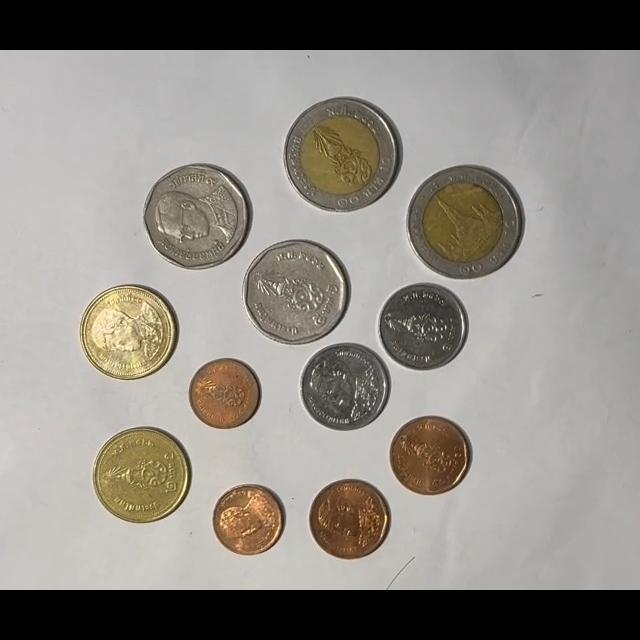1-baht: (299, 343, 391, 433), (378, 283, 468, 371)
10-baht: (284, 97, 402, 214), (407, 165, 523, 279)
2-baht: (93, 427, 191, 524), (79, 284, 176, 381)
25-satang: (212, 484, 286, 557), (188, 358, 261, 430)
5-baht: (143, 164, 251, 270), (244, 239, 350, 346)
50-satang: (308, 479, 391, 560), (389, 416, 471, 496)
